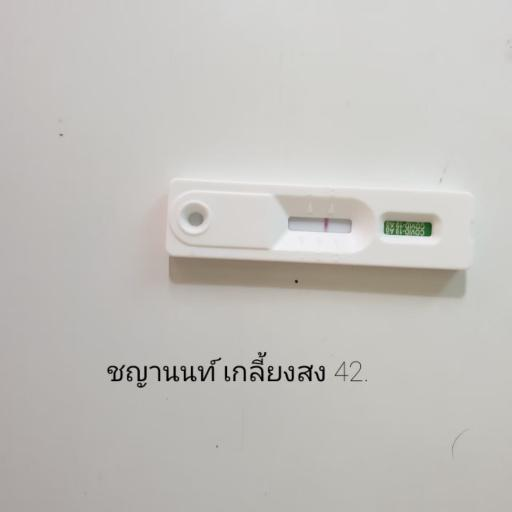Neg: (164, 176, 476, 272)
